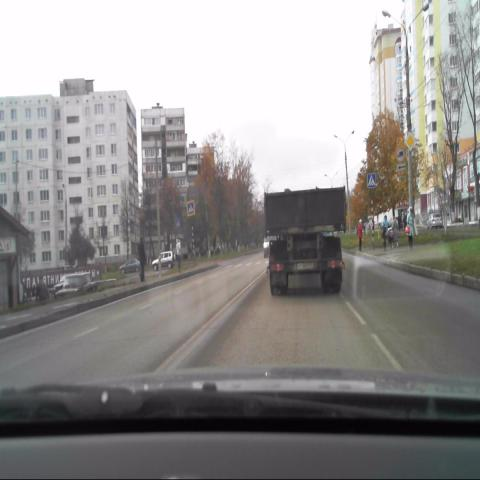2_1: (404, 132, 415, 152)
3_4_1: (396, 148, 404, 162)
5_19_1: (366, 172, 376, 187), (186, 200, 195, 215), (176, 218, 182, 230)
